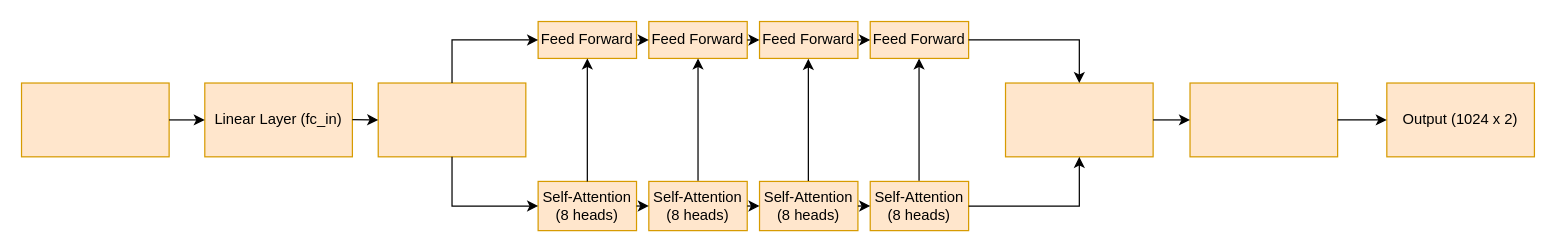
Image size: 1556x252. Some labels were removed from this diagram. Each missing label, with the box of its shape:
Dropout（0.1）: (1004, 82, 1153, 157)
Input（1024×2）: (20, 82, 169, 157)
Linear Layer（fc_out): (1189, 82, 1338, 157)
Positional Encoding: (377, 82, 526, 157)
